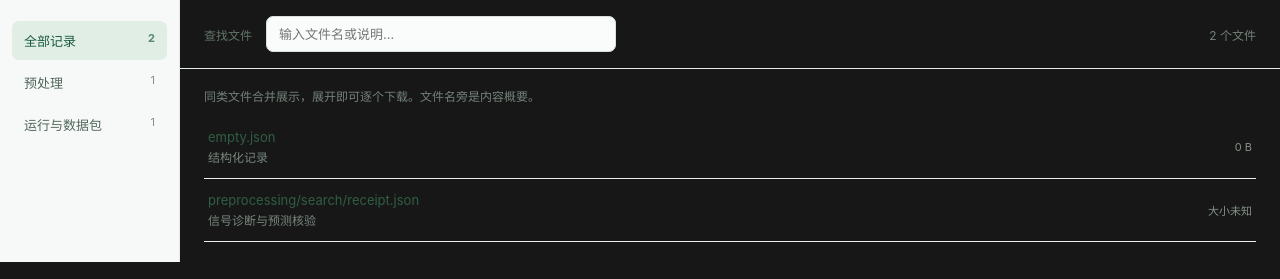
Test: uses supplied descriptions for display and search, and shows unknown sizes
Step 1. Type "预测核验" into the search field labelled "查找文件" → (441, 34), box [266,16,616,52]
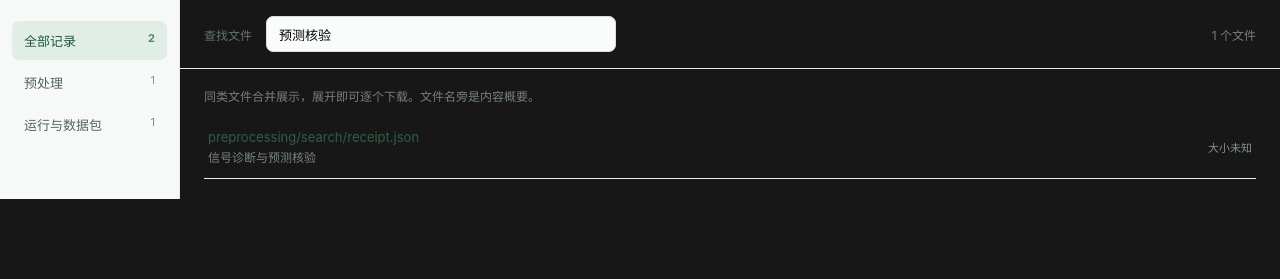
Expected: the text with class "file-description" reads "信号诊断与预测核验", [208,150,316,165]
Now the number of elements with class "file-row" is 1, box [208,129,1252,165]
